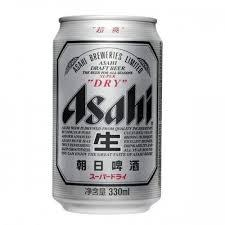beer: (49, 13, 163, 214)
